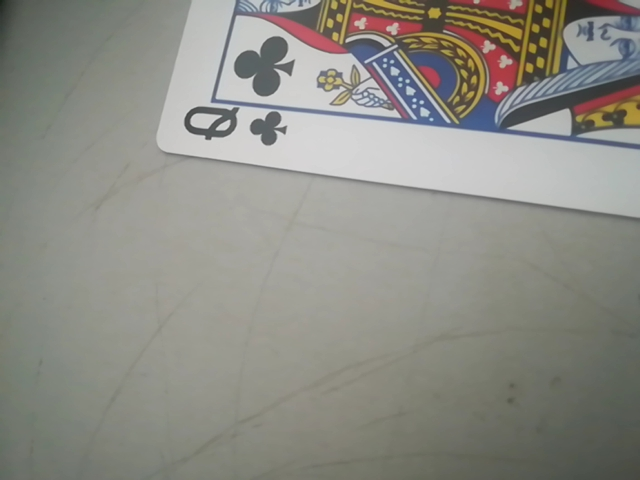mh q: (148, 0, 639, 233)
